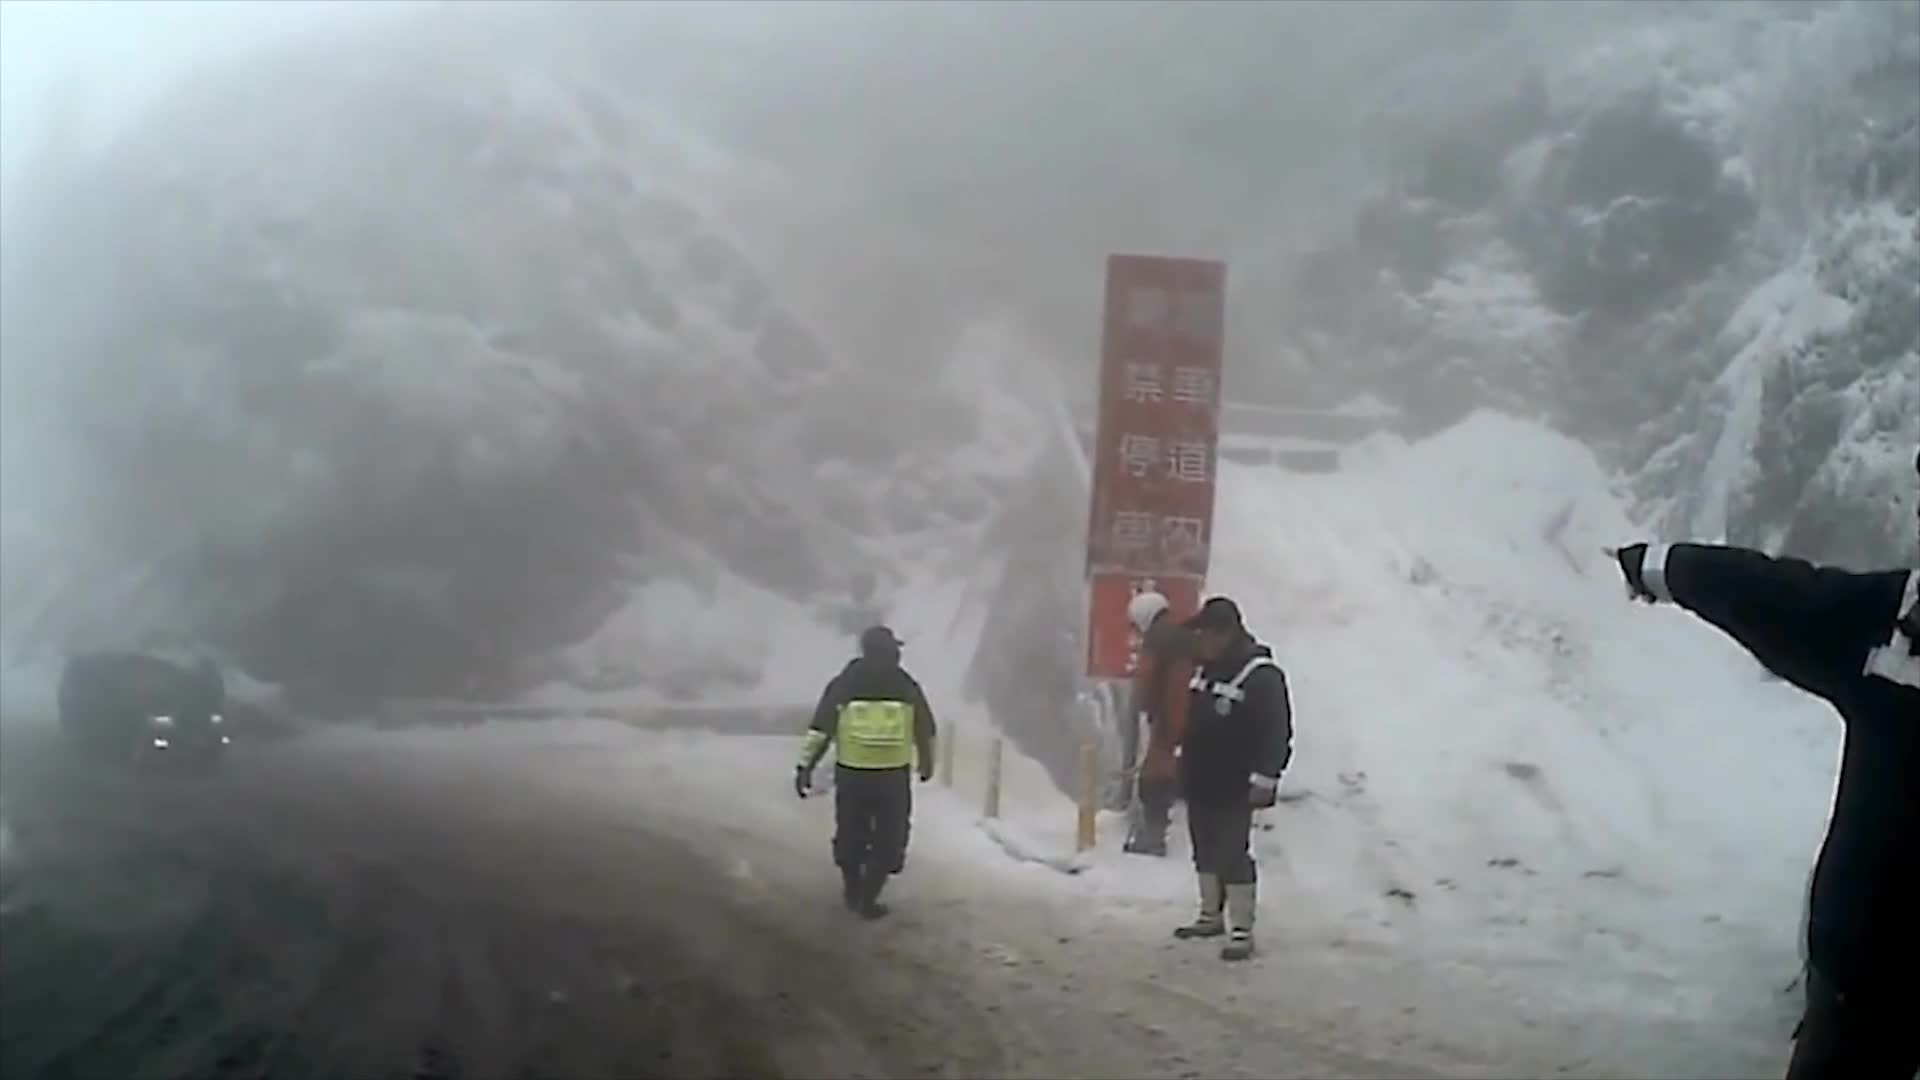pedestrian: (1575, 416, 1919, 1076), (1177, 599, 1298, 968), (795, 627, 940, 918)
vehicle: (58, 646, 231, 772)
